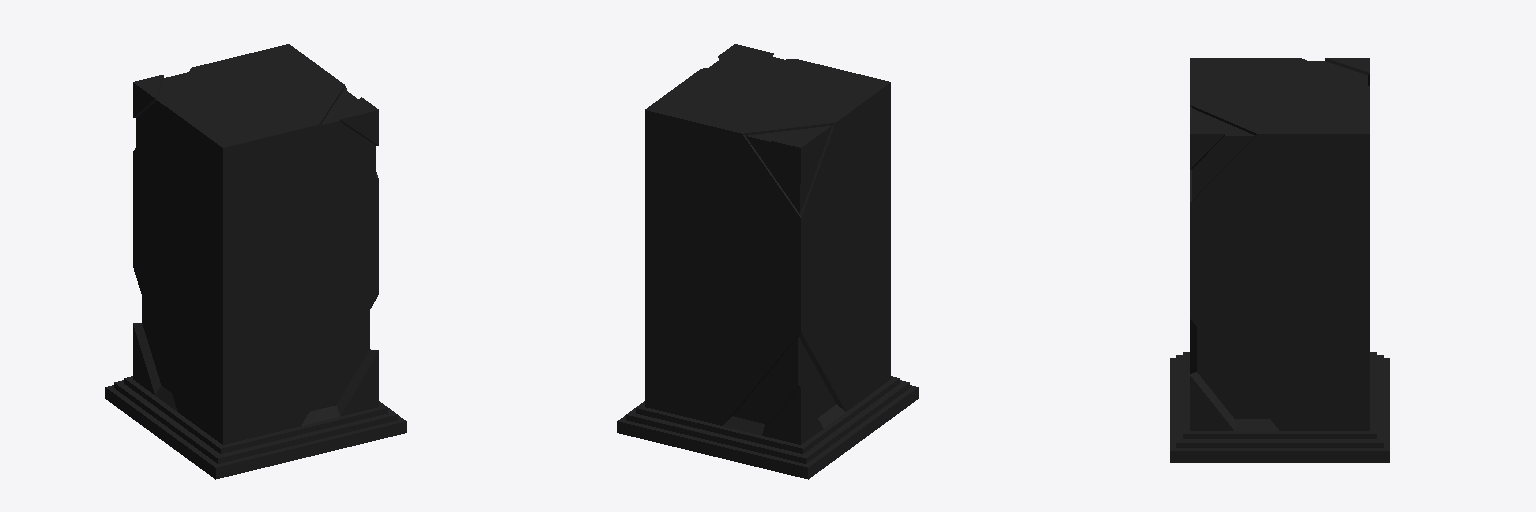
The model's file is Base_de_la_estatua.obj.
The picture shows the model from 3 angles: view 1: azimuth 30°, elevation 25°; view 2: azimuth 150°, elevation 25°; view 3: azimuth 270°, elevation 25°; orthographic projection.
Parts seen in each view (by area): view 1: Base_de_la_estatua:pCube1; view 2: Base_de_la_estatua:pCube1; view 3: Base_de_la_estatua:pCube1.
Part boxes in pixels (x1,y1,x2,y2): Base_de_la_estatua:pCube1: (105, 44, 406, 479); Base_de_la_estatua:pCube1: (617, 44, 918, 479); Base_de_la_estatua:pCube1: (1170, 58, 1389, 462).
Size of the model in its own units: 400 by 641 by 400.